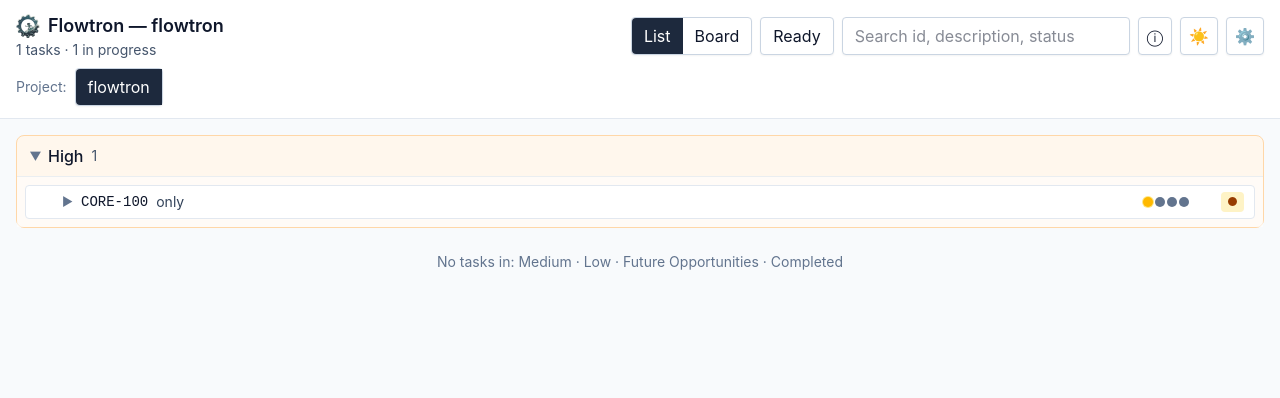
Scenario: App — expand-on-click toggling › reveals TaskDetail on first click and hides it on the second click
The width and height of the screenshot is (1280, 398).
Expected: the text "CORE-100" is shown, 81,192 -> 148,212
Expected: the text "The goal sentence." is not shown
Click the button "▶ CORE-100 only": (115, 202) 62,192 -> 1135,212
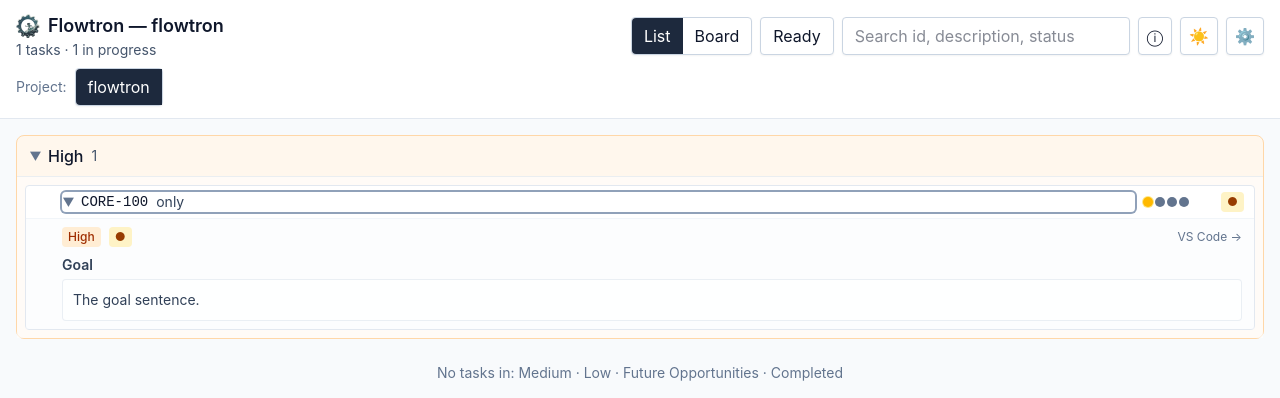
Now the text "The goal sentence." is shown, box 73,291 -> 200,308
Click the button "▶ CORE-100 only": (115, 202) 62,192 -> 1135,212
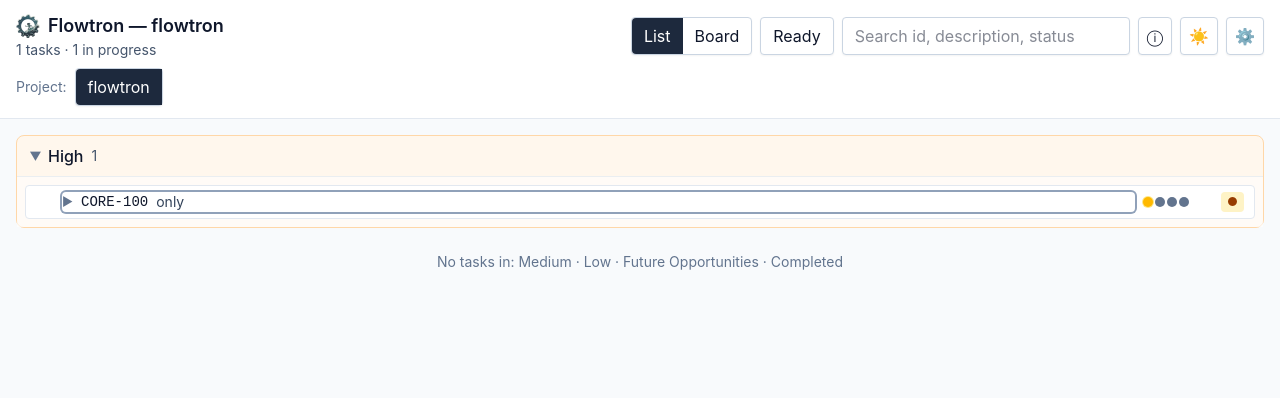
Now the text "The goal sentence." is gone
